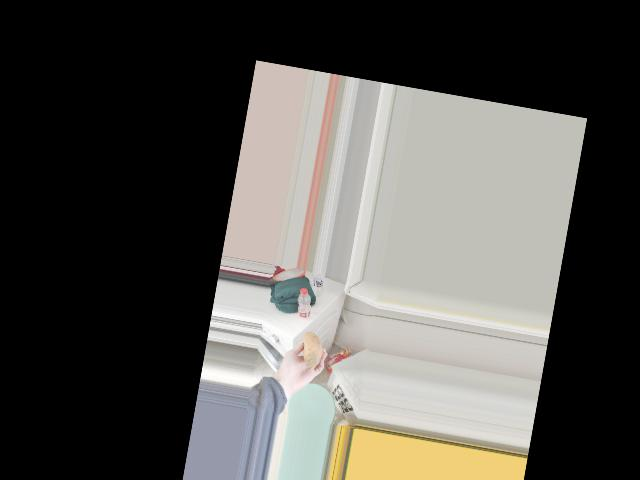sweet_potato: (300, 330, 324, 373)
